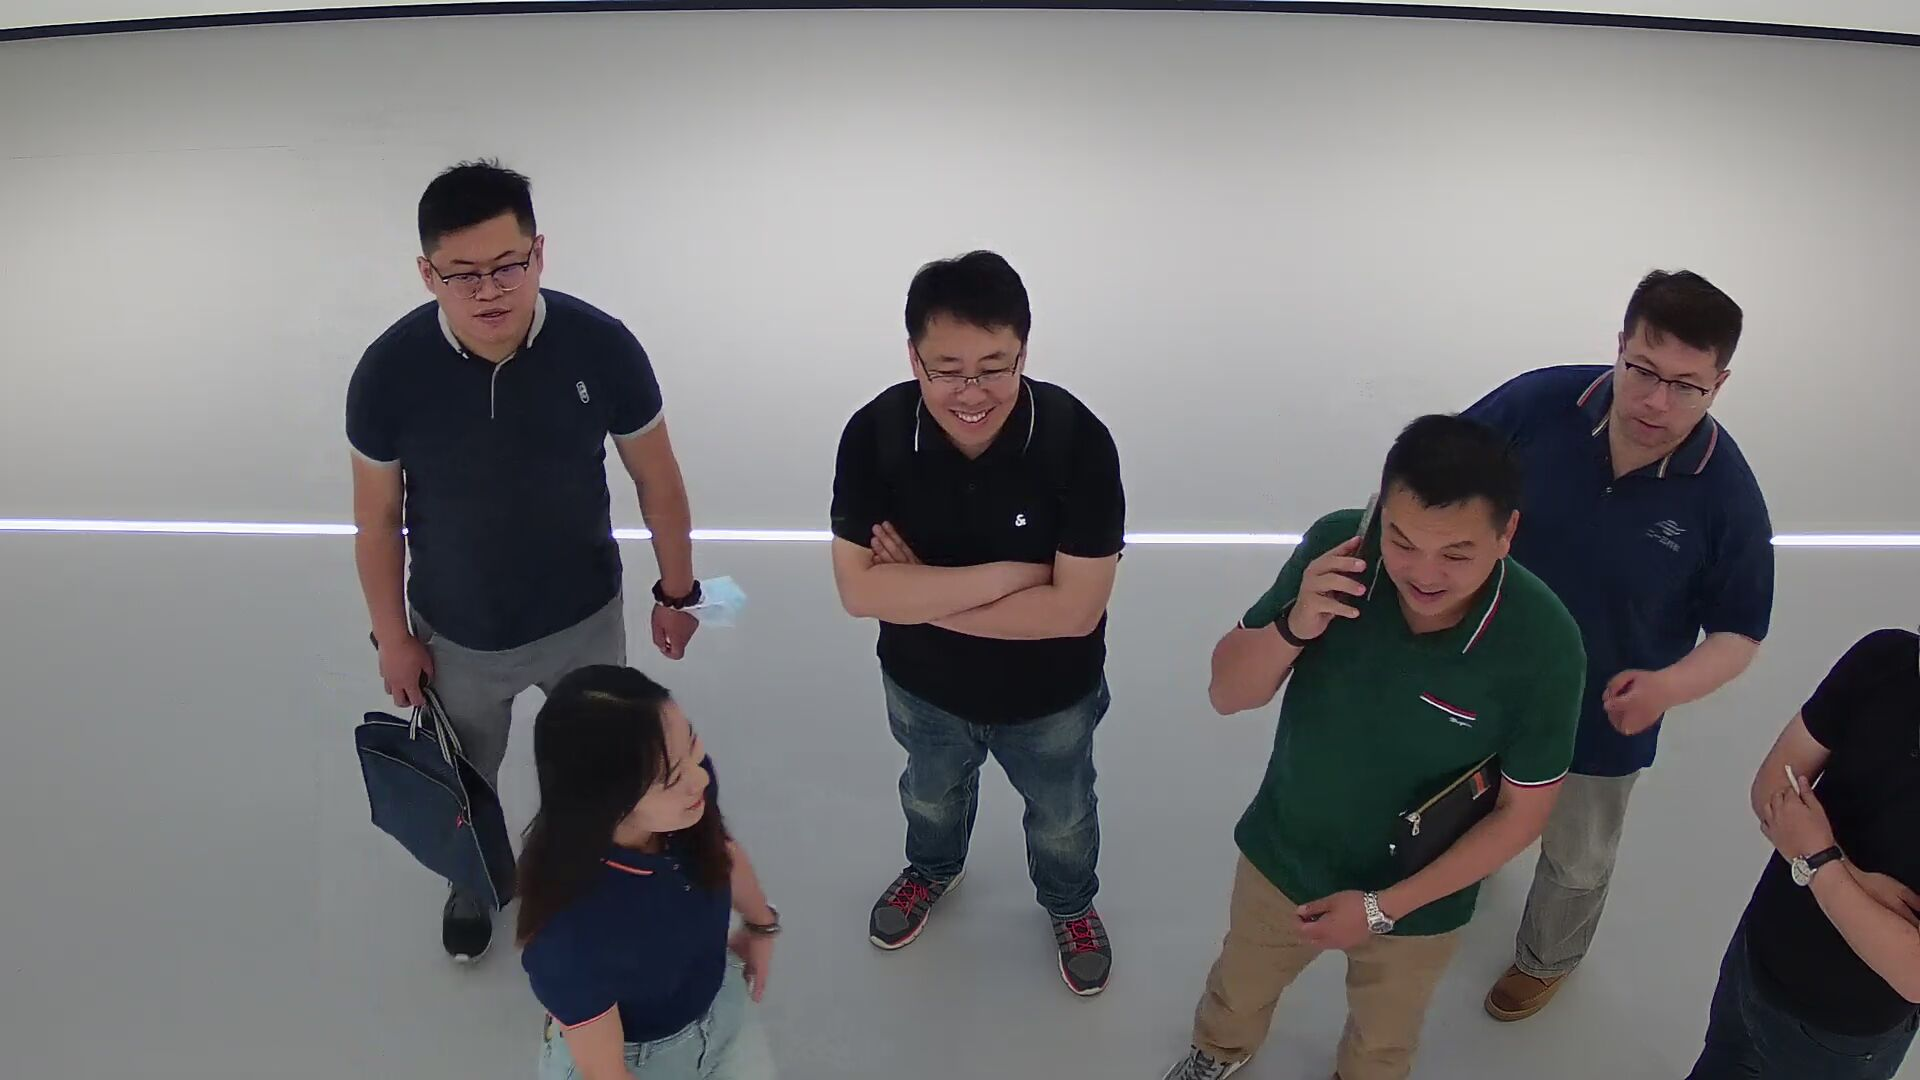normal: (1182, 253, 1783, 1080), (814, 247, 1145, 1004), (322, 161, 708, 667), (506, 673, 787, 1080)
